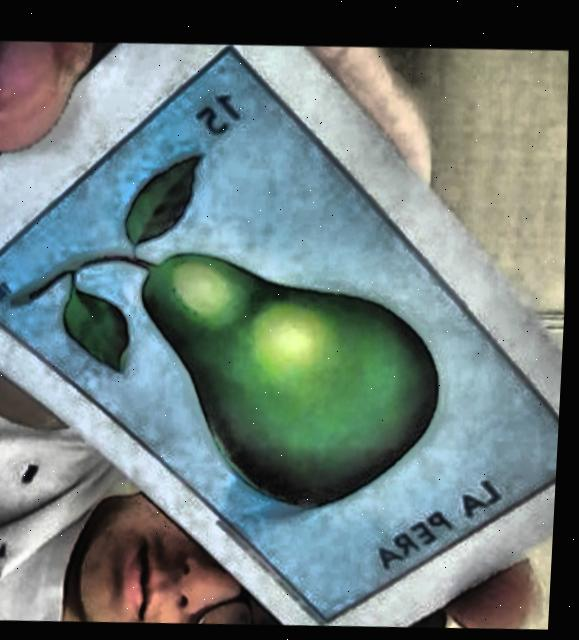La Pera: (0, 45, 563, 613)
